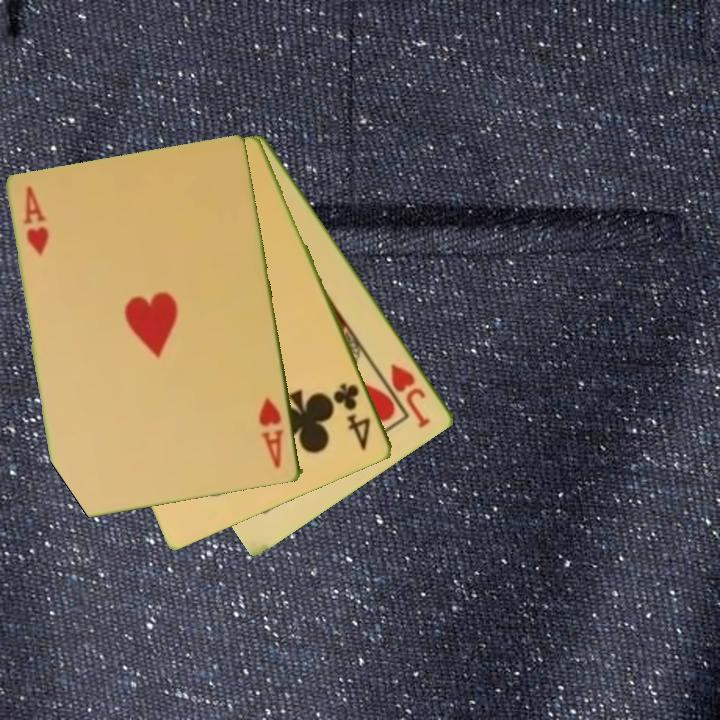4c: (330, 379, 374, 454)
Ah: (255, 394, 286, 472), (20, 182, 51, 259)
Jh: (387, 360, 434, 431)
